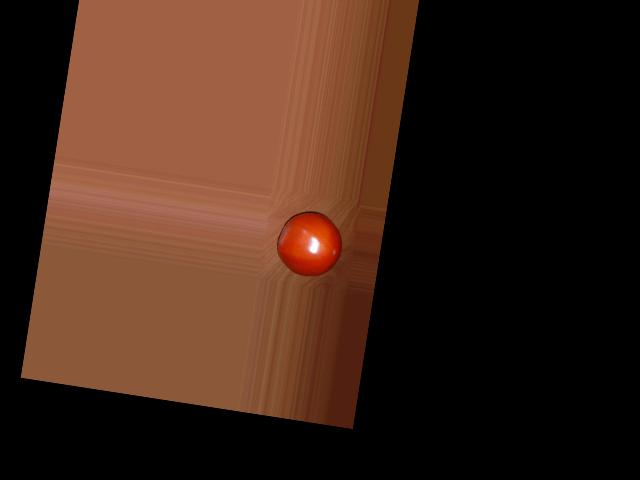tomato: (273, 207, 346, 281)
